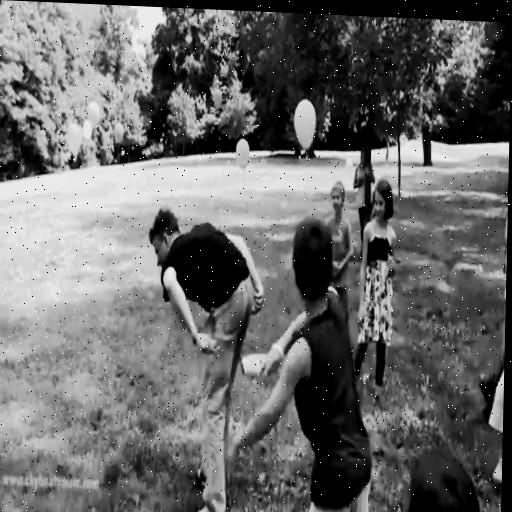balloon: (295, 101, 317, 148), (63, 125, 83, 159), (235, 137, 251, 169), (86, 102, 100, 128), (114, 123, 124, 142), (82, 122, 93, 139), (347, 157, 354, 172)
